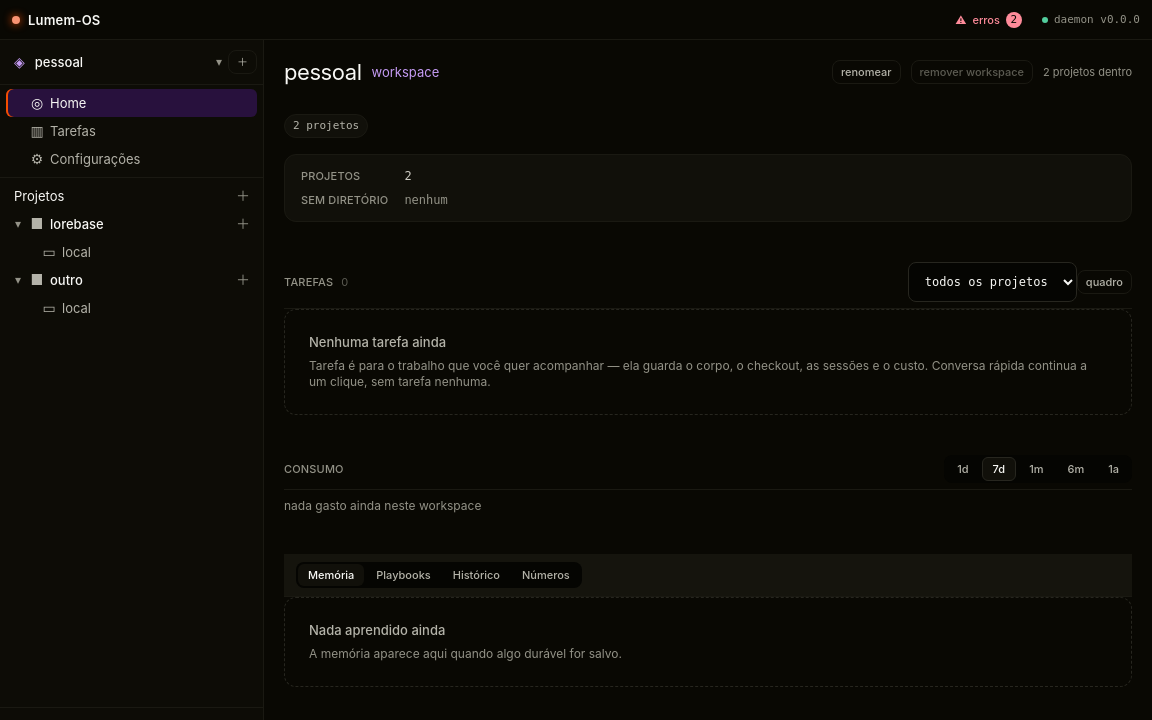
Test case: create worktree › starts on the project row that opened it, and the selector can change it (F4.1)
Click the button "■ lorebase". click: (128, 224)
box: [26,210,231,238]
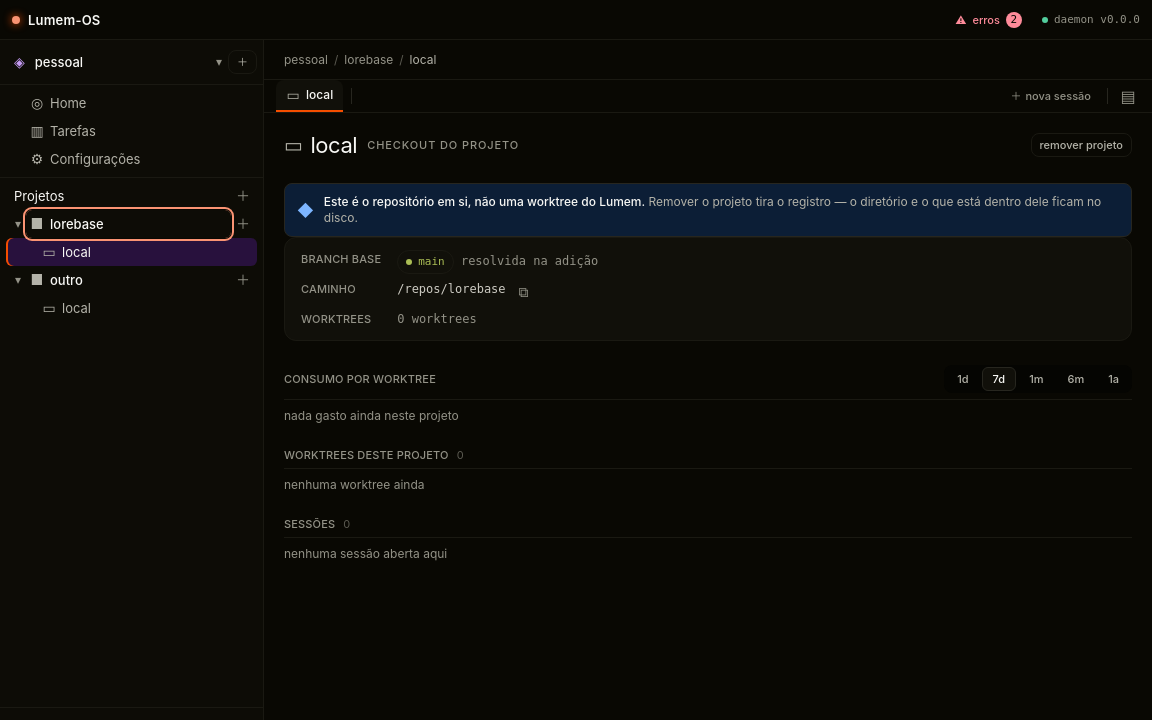
Click the button named "nova worktree em lorebase". click: (243, 224)
box: [231,212,255,236]
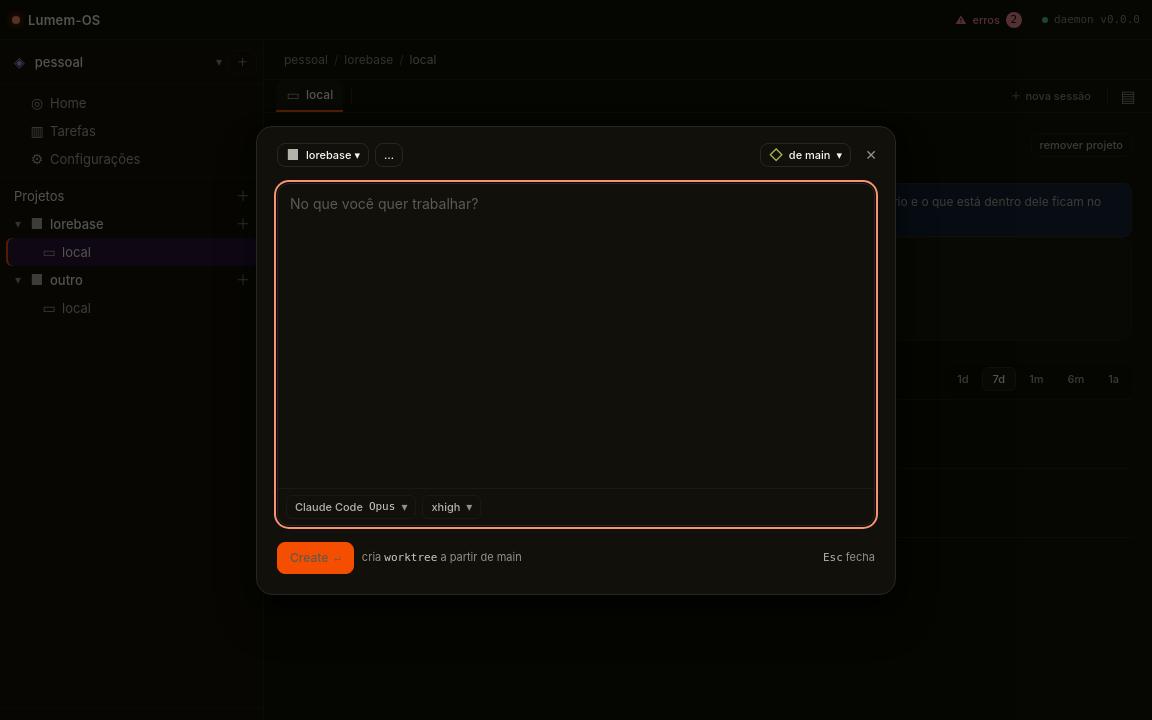
Check: the button with aria-label "projeto: lorebase" is shown
Click the button with aria-label "projeto: lorebase". click: (323, 154)
box: [277,142,369,166]
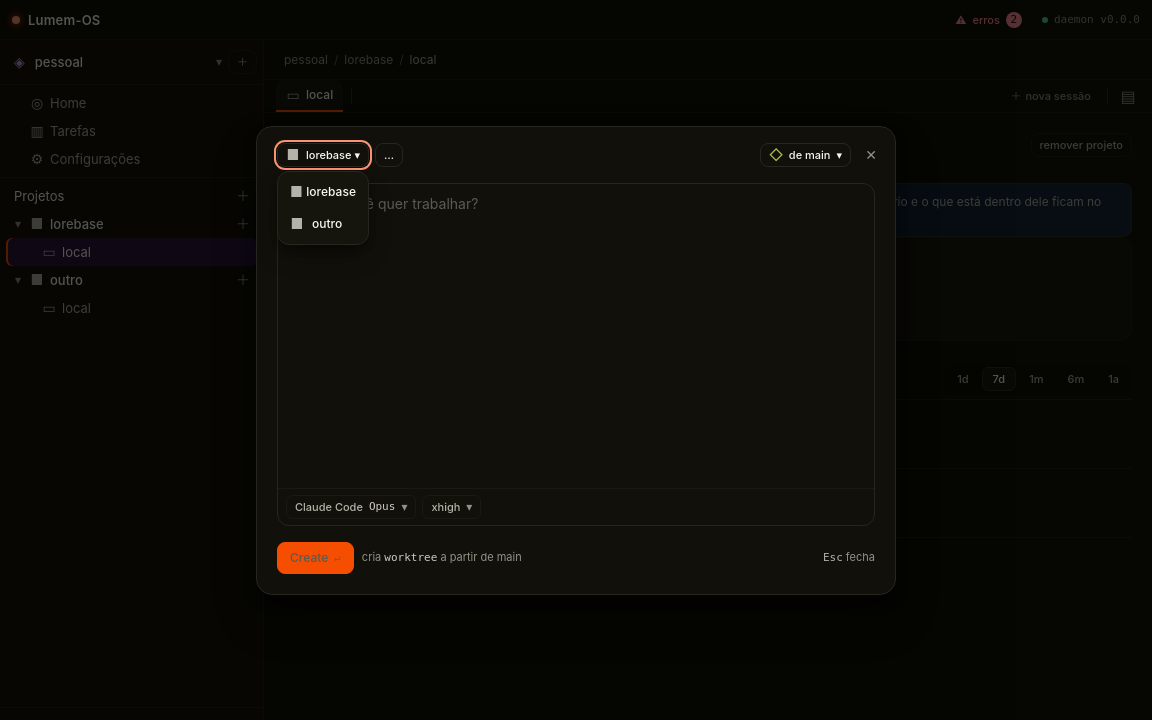
Click the menu item "■ outro". click: (323, 224)
box: [282,208,364,240]
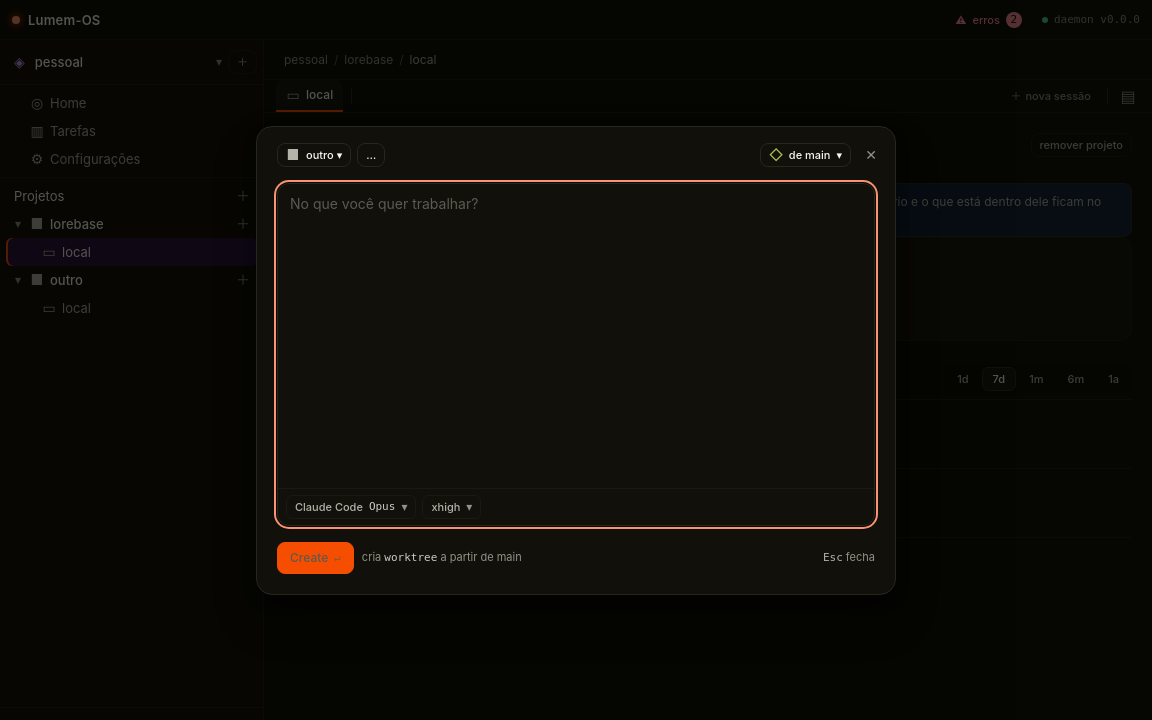
Check: the button with aria-label "projeto: outro" is shown, box [277,142,351,166]
